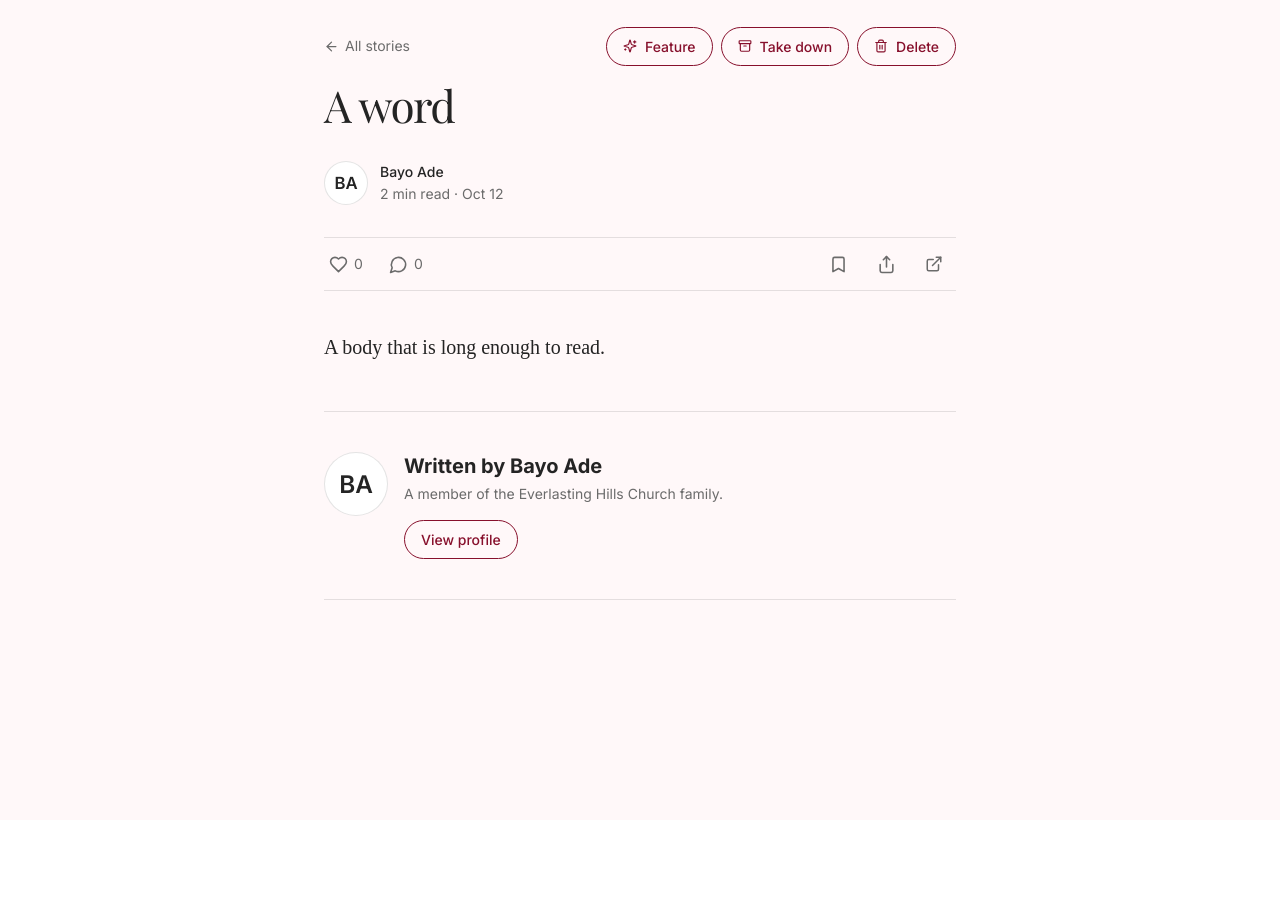
Scenario: moderating somebody else's story › says why when the server refuses
Click the button "Delete": point(907, 46) [857,26,956,66]
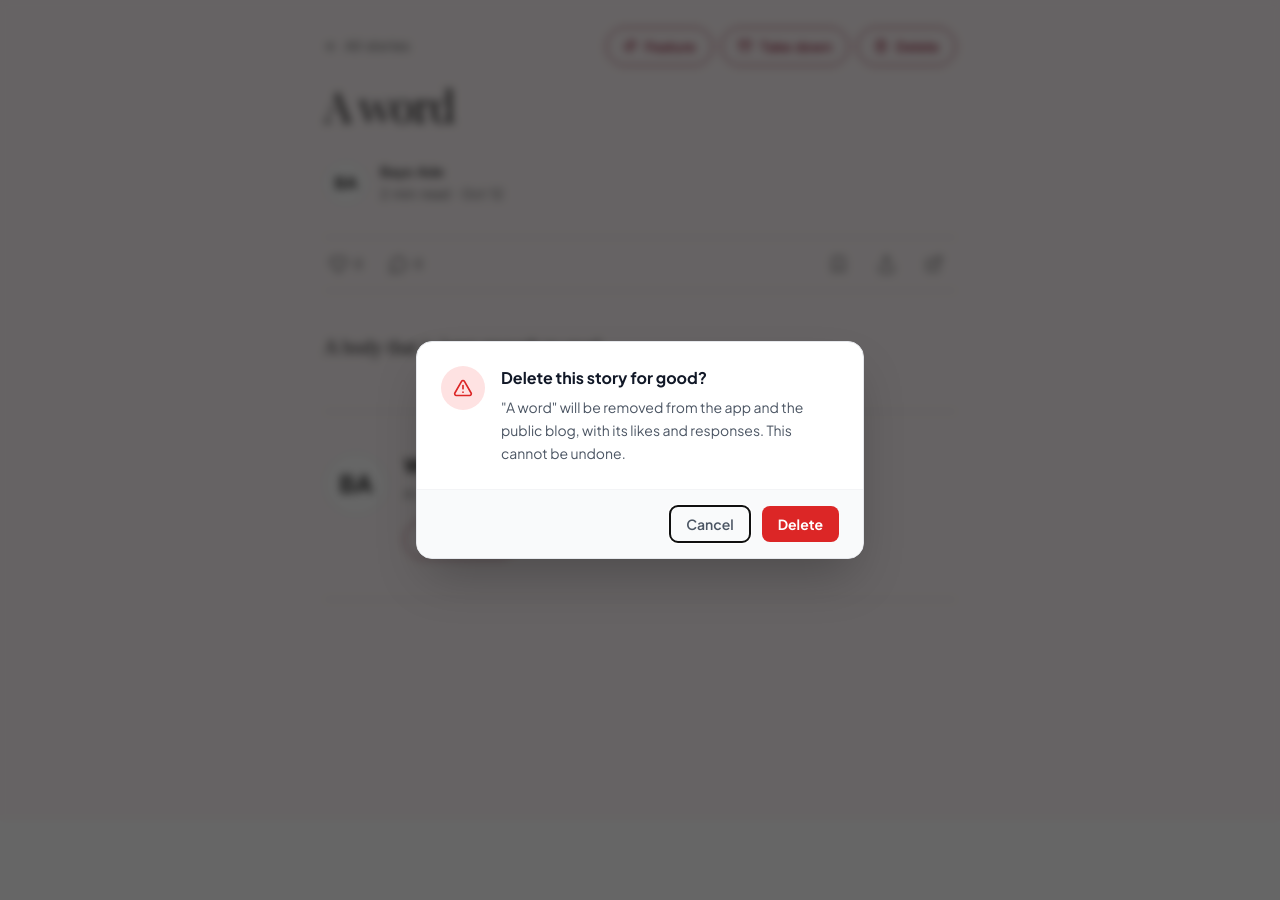
Click the button "Delete": point(800, 524) [762,506,839,542]
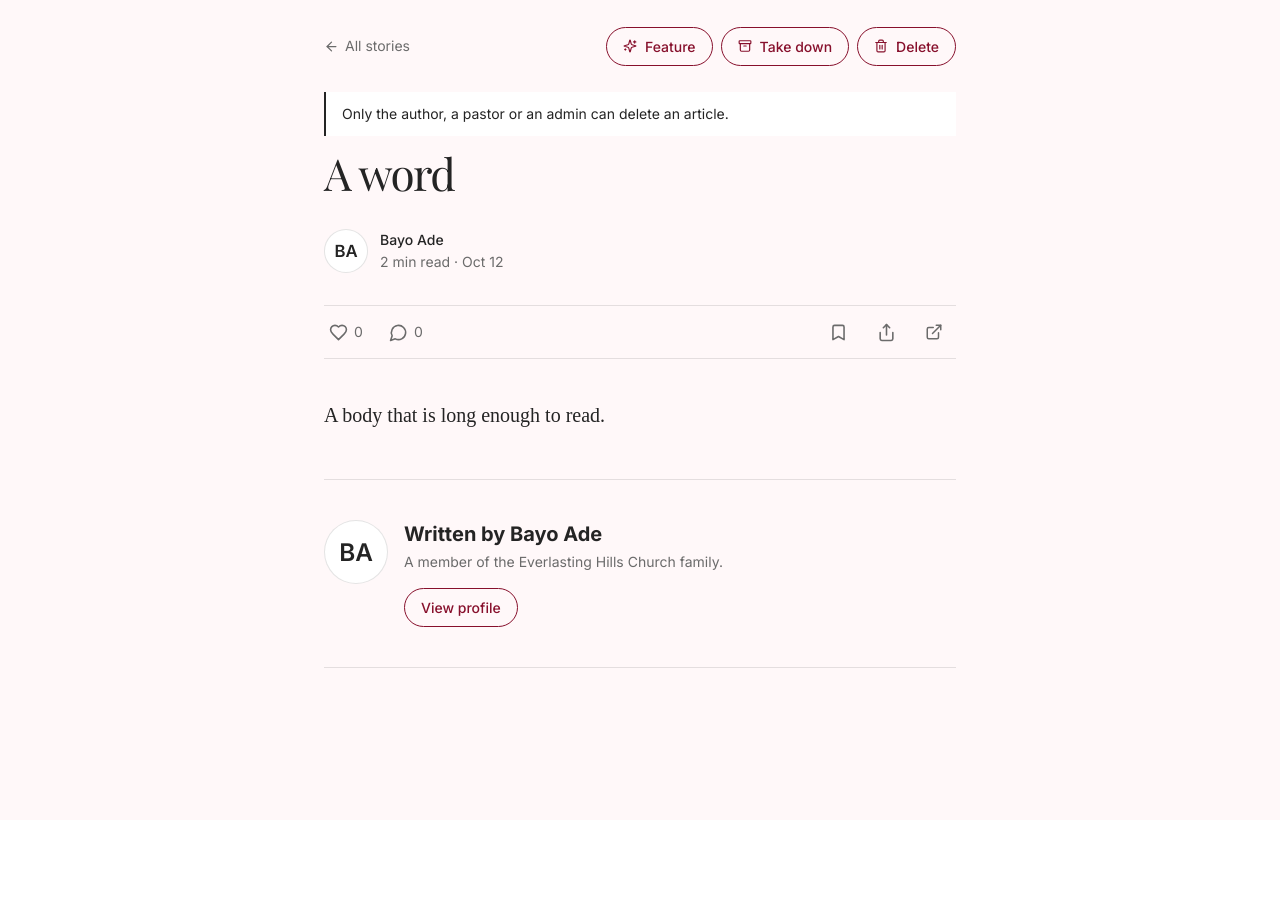
Check: the message shows "Only the author, a pastor or an admin", box [342,105,729,122]
